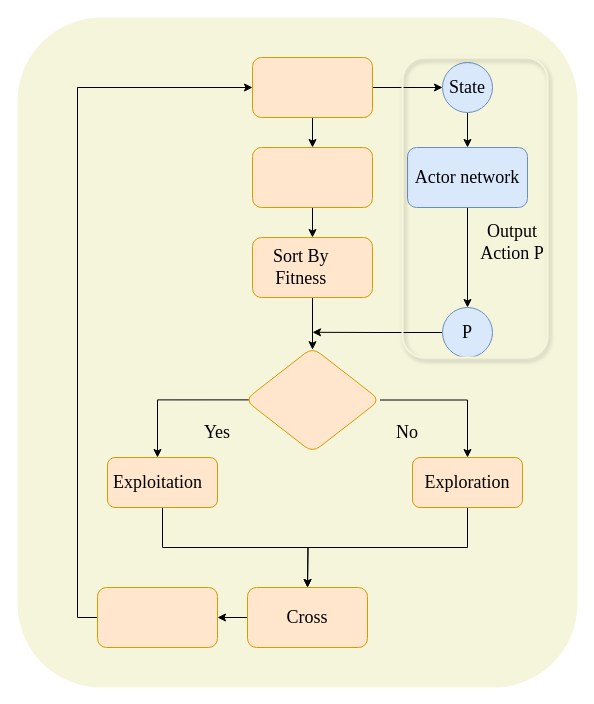
Some shapes in this 594 by 704 pixel diagram are drawn without their labels. Each missing label, with the centre of its shape:
"Calculate Fitness" goes at point 312,177.
"Is Individual in Top P% of Fitness" goes at point 312,399.
"Population" goes at point 312,87.
"Select" goes at point 157,617.
